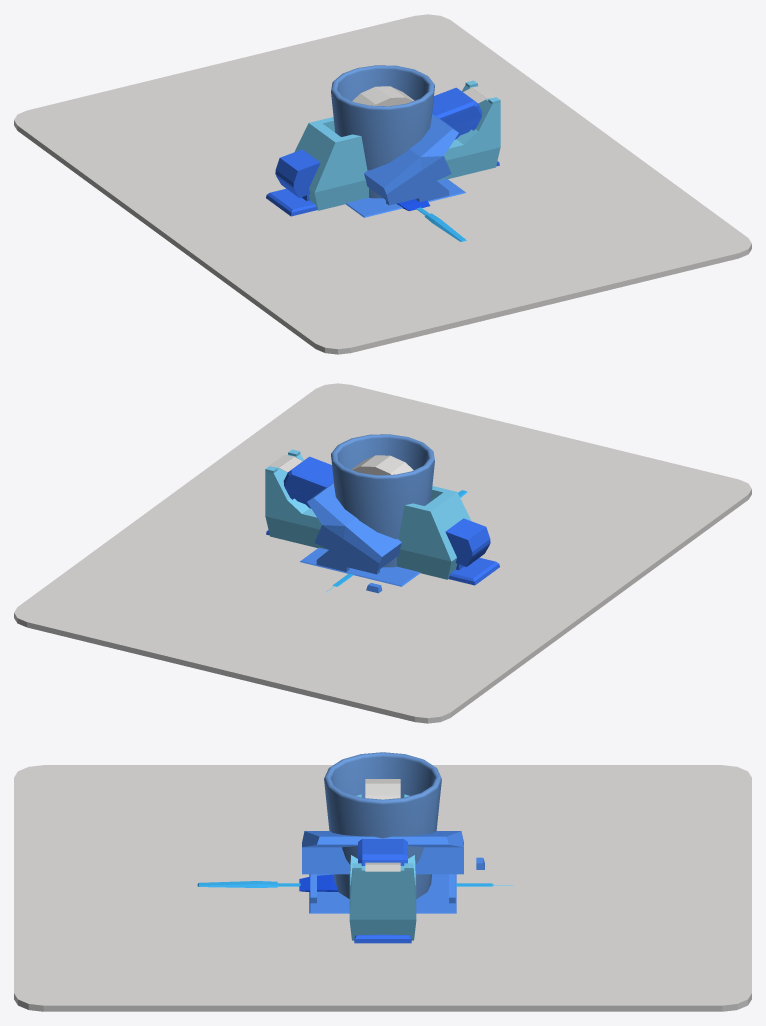
Rendered from Tools.fbx.
3 renders of one model, top to bottom at view 1: azimuth 30°, elevation 25°; view 2: azimuth 150°, elevation 25°; view 3: azimuth 270°, elevation 25°, orthographic. The views are drawn at different scales.
Parts seen in each view (by area): view 1: CutMat, Tape dispenser, Circle, Hole punch, Stapler blue, Tape roll; view 2: CutMat, Tape dispenser, Circle, Hole punch, Stapler blue, Tape roll; view 3: CutMat, Circle, Hole punch, Tape dispenser, Stapler blue, Tape roll, Pen cap blue, Highlighter cap blue.
Boxes of the visible parts, left/top/right/bottom form: CutMat: left=14, top=14, right=751, bottom=354; Tape dispenser: left=294, top=80, right=500, bottom=210; Circle: left=331, top=65, right=434, bottom=198; Hole punch: left=346, top=114, right=465, bottom=217; Stapler blue: left=266, top=87, right=499, bottom=216; Tape roll: left=352, top=86, right=496, bottom=106; CutMat: left=14, top=383, right=751, bottom=723; Tape dispenser: left=265, top=449, right=471, bottom=579; Circle: left=331, top=434, right=434, bottom=567; Hole punch: left=300, top=483, right=419, bottom=593; Stapler blue: left=266, top=456, right=499, bottom=585; Tape roll: left=269, top=455, right=413, bottom=475; CutMat: left=14, top=765, right=751, bottom=1011; Circle: left=324, top=752, right=441, bottom=898; Hole punch: left=302, top=831, right=484, bottom=913; Tape dispenser: left=349, top=794, right=416, bottom=940; Stapler blue: left=354, top=839, right=411, bottom=943; Tape roll: left=365, top=779, right=400, bottom=871; Pen cap blue: left=197, top=881, right=277, bottom=887; Highlighter cap blue: left=299, top=874, right=338, bottom=891.
Size of the model in its own units: 152 by 37.77 by 197.
